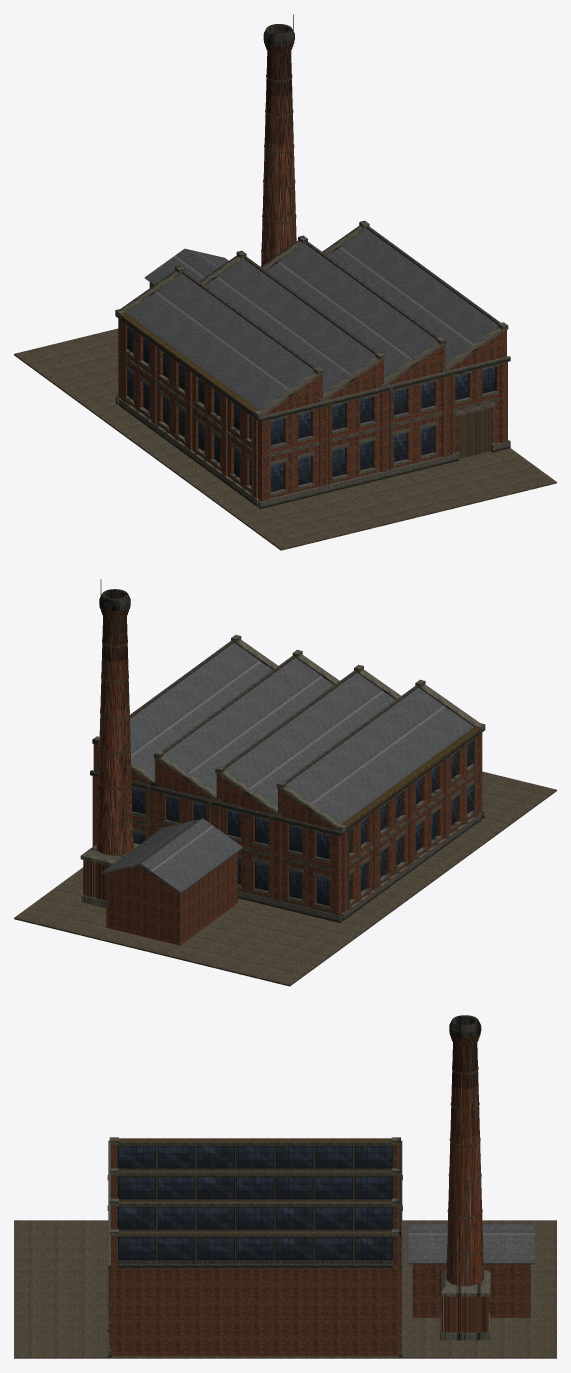
File: no-1-quiet-factory.glb
3 views of the same model, one above another, from view 1: azimuth 30°, elevation 25°; view 2: azimuth 150°, elevation 25°; view 3: azimuth 270°, elevation 25° (orthographic).
Parts seen in each view (by area): view 1: no-1-mill-roof, no-1-mill-walls, no-1-yard.001, no-1-mill-stonework, no-1-chimney, no-1-mill-ironwork, no-1-boiler-house.001, no-1-loading-door-right, no-1-loading-door-left; view 2: no-1-mill-roof, no-1-yard.001, no-1-mill-walls, no-1-boiler-house.001, no-1-mill-stonework, no-1-chimney, no-1-mill-ironwork; view 3: no-1-mill-walls, no-1-yard.001, no-1-chimney, no-1-boiler-house.001, no-1-mill-roof, no-1-mill-ironwork, no-1-mill-stonework, no-1-north-light-4-panel-7, no-1-north-light-4-panel-5, no-1-north-light-4-panel-4, no-1-north-light-4-panel-2, no-1-north-light-2-panel-4 (+23 smaller).
Boxes of the visible parts, x1=… form: no-1-mill-roof: x1=127, y1=226, x2=500, y2=409; no-1-mill-walls: x1=118, y1=318, x2=507, y2=501; no-1-yard.001: x1=14, y1=328, x2=556, y2=550; no-1-mill-stonework: x1=115, y1=220, x2=510, y2=508; no-1-chimney: x1=261, y1=14, x2=296, y2=266; no-1-mill-ironwork: x1=119, y1=313, x2=454, y2=495; no-1-boiler-house.001: x1=144, y1=248, x2=228, y2=287; no-1-loading-door-right: x1=474, y1=407, x2=491, y2=454; no-1-loading-door-left: x1=458, y1=412, x2=474, y2=458; no-1-mill-roof: x1=129, y1=640, x2=473, y2=823; no-1-yard.001: x1=14, y1=771, x2=556, y2=986; no-1-mill-walls: x1=92, y1=732, x2=482, y2=915; no-1-boiler-house.001: x1=101, y1=818, x2=242, y2=945; no-1-mill-stonework: x1=90, y1=634, x2=485, y2=922; no-1-chimney: x1=80, y1=579, x2=139, y2=907; no-1-mill-ironwork: x1=146, y1=727, x2=481, y2=909; no-1-mill-walls: x1=109, y1=1144, x2=401, y2=1356; no-1-yard.001: x1=14, y1=1220, x2=556, y2=1358; no-1-chimney: x1=439, y1=1015, x2=490, y2=1340; no-1-boiler-house.001: x1=408, y1=1223, x2=534, y2=1317; no-1-mill-roof: x1=117, y1=1141, x2=393, y2=1263; no-1-mill-ironwork: x1=107, y1=1138, x2=402, y2=1321; no-1-mill-stonework: x1=107, y1=1137, x2=402, y2=1357; no-1-north-light-4-panel-7: x1=354, y1=1237, x2=392, y2=1260; no-1-north-light-4-panel-5: x1=275, y1=1237, x2=313, y2=1260; no-1-north-light-4-panel-4: x1=236, y1=1237, x2=274, y2=1260; no-1-north-light-4-panel-2: x1=157, y1=1237, x2=195, y2=1260; no-1-north-light-2-panel-4: x1=236, y1=1176, x2=274, y2=1199.
Bounding box in the file's own units: 24.7 × 27.1 × 41.4.
14 materials, 14 textured.
